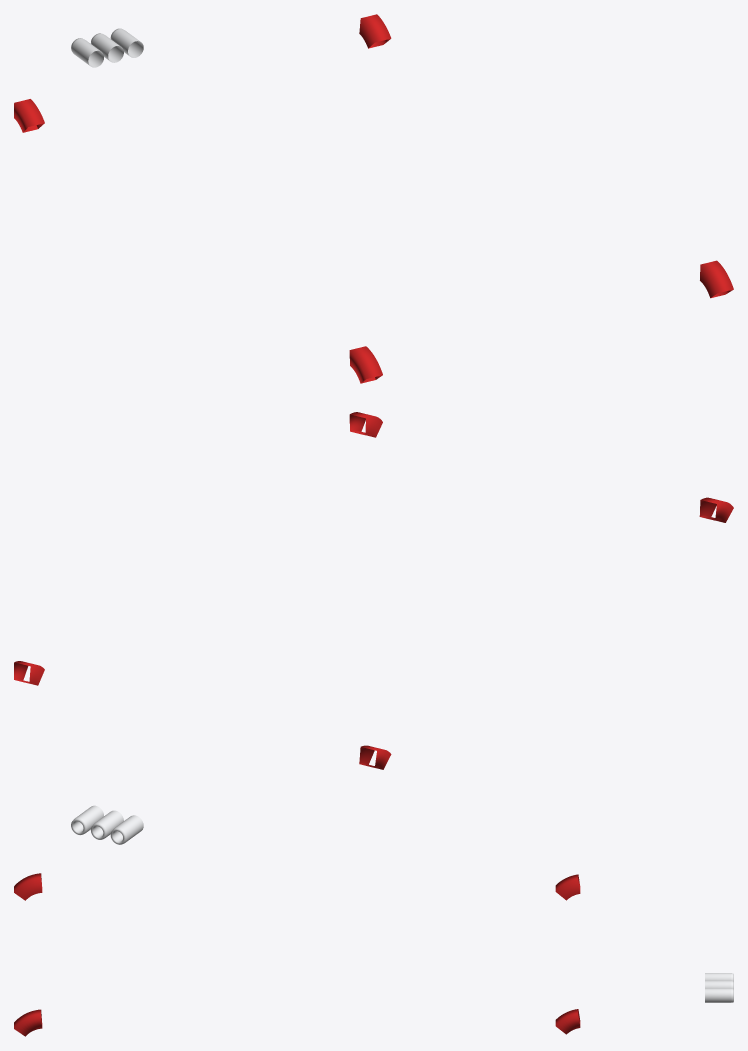
Rendered from aurelle-vif-r.glb.
3 renders of one model, top to bottom at view 1: azimuth 30°, elevation 25°; view 2: azimuth 150°, elevation 25°; view 3: azimuth 270°, elevation 25°, orthographic. The views are drawn at different scales.
Parts seen in each view (by area): view 1: Exhaust, Caliper_FL, Caliper_FR, Caliper_RL, Caliper_RR; view 2: Exhaust; view 3: Exhaust, Caliper_FR, Caliper_FL, Caliper_RR, Caliper_RL.
Part boxes in pixels (x1,y1,x2,y2): Exhaust: [71, 28, 143, 67]; Caliper_FL: [700, 260, 733, 298]; Caliper_FR: [349, 346, 382, 383]; Caliper_RL: [359, 14, 391, 48]; Caliper_RR: [14, 99, 44, 132]; Exhaust: [71, 805, 143, 844]; Exhaust: [705, 973, 733, 1002]; Caliper_FR: [14, 873, 42, 900]; Caliper_FL: [14, 1009, 42, 1036]; Caliper_RR: [555, 874, 580, 900]; Caliper_RL: [555, 1009, 580, 1034].
Size of what is drawn, in the model's own units: 1.67 by 0.2724 by 3.56.
